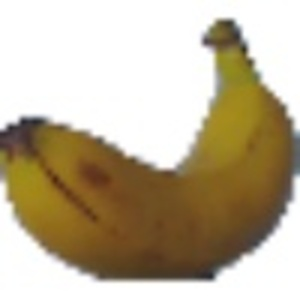banana: (6, 10, 297, 286)
